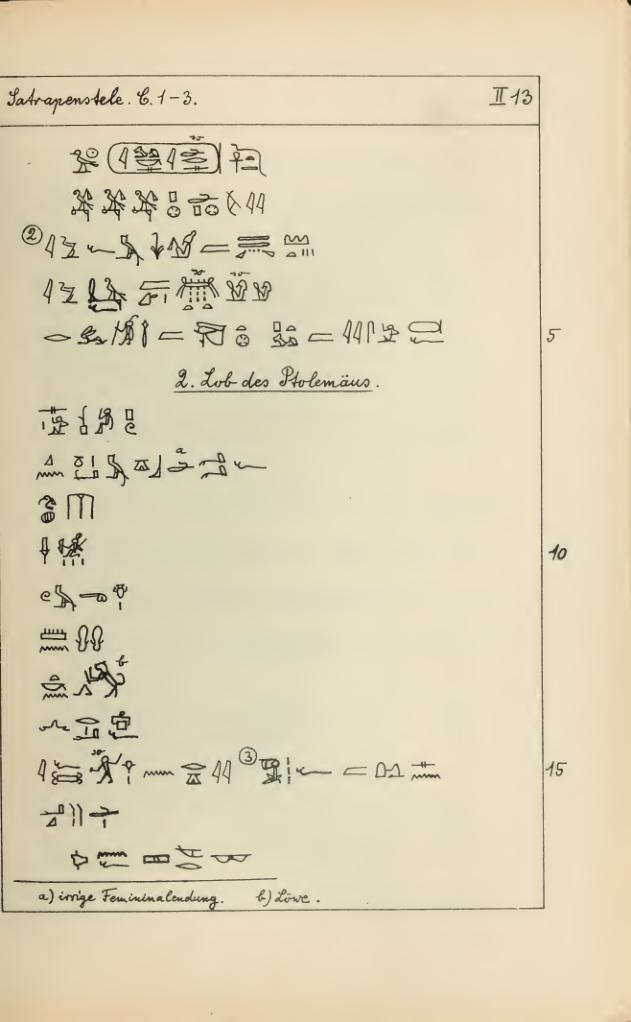circle: (85, 128, 245, 201)
